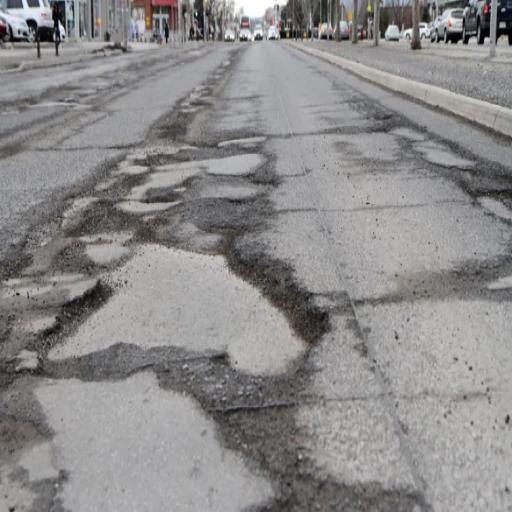pothole: (40, 218, 302, 429), (104, 72, 274, 232), (408, 120, 509, 272)
